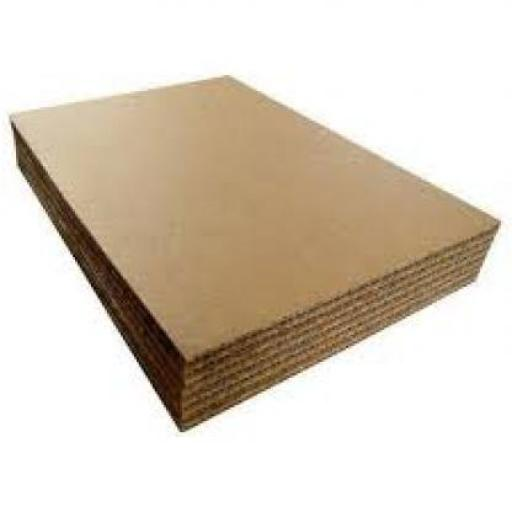cardboard: (14, 73, 504, 428)
